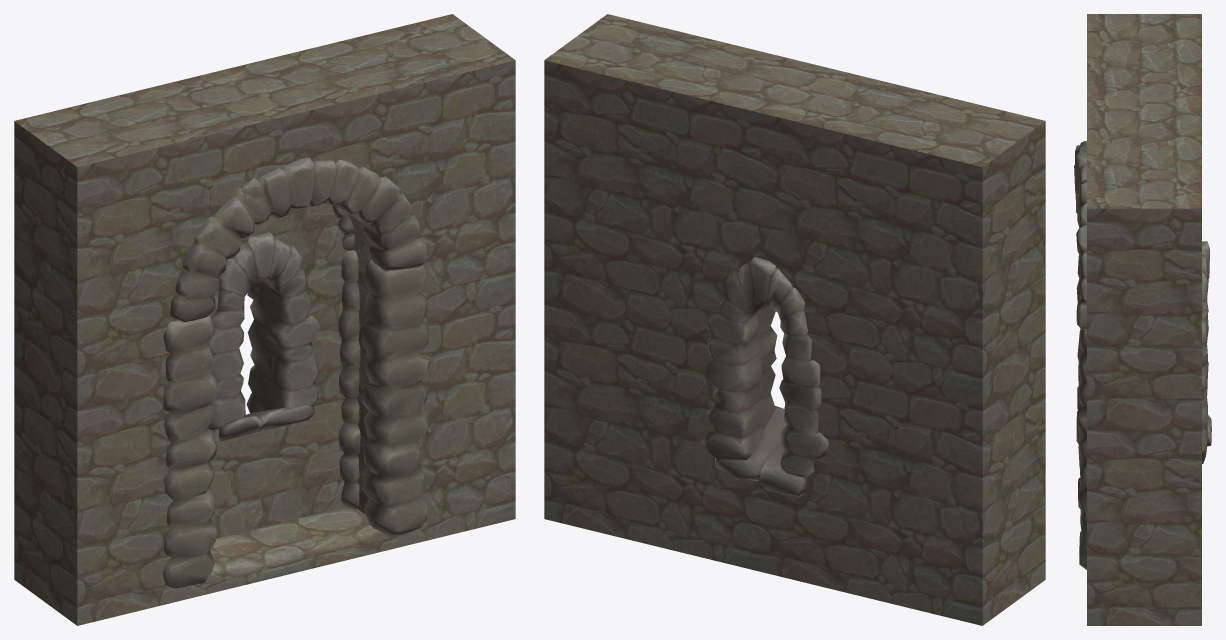
Rendered from SM_FW01_Ruins_Wall_Window_01.fbx.
The picture shows the model from 3 angles, left to right: view 1: azimuth 30°, elevation 25°; view 2: azimuth 150°, elevation 25°; view 3: azimuth 270°, elevation 25°; orthographic projection. The views are drawn at different scales.
Parts seen in each view (by area): view 1: SM_FW01_Ruins_Wall_Window_01, SM_FW01_Ruins_Wall_Window_01_LOD0; view 2: SM_FW01_Ruins_Wall_Window_01, SM_FW01_Ruins_Wall_Window_01_LOD0; view 3: SM_FW01_Ruins_Wall_Window_01, SM_FW01_Ruins_Wall_Window_01_LOD0.
Boxes of the visible parts, left/top/right/bottom form: SM_FW01_Ruins_Wall_Window_01: left=14, top=14, right=515, bottom=625; SM_FW01_Ruins_Wall_Window_01_LOD0: left=163, top=157, right=429, bottom=588; SM_FW01_Ruins_Wall_Window_01: left=544, top=14, right=1045, bottom=625; SM_FW01_Ruins_Wall_Window_01_LOD0: left=702, top=257, right=828, bottom=496; SM_FW01_Ruins_Wall_Window_01: left=1087, top=14, right=1201, bottom=625; SM_FW01_Ruins_Wall_Window_01_LOD0: left=1074, top=141, right=1211, bottom=569.
Size of what is drawn, in the model's own units: 4 by 4 by 1.2.
